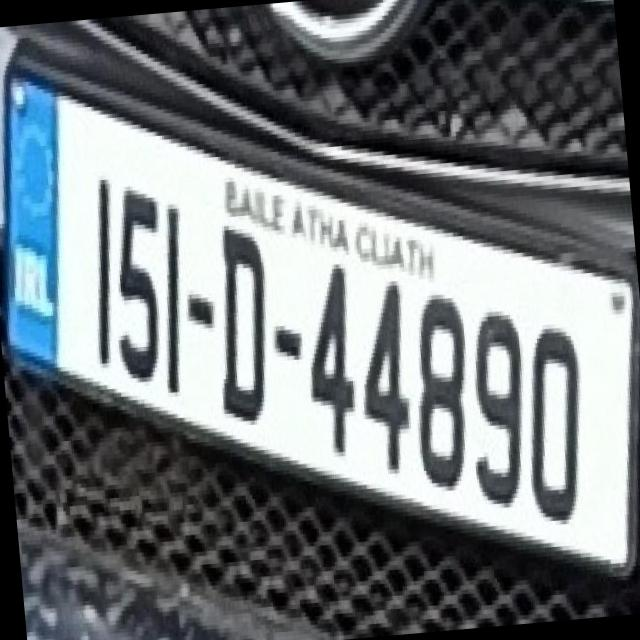0: (504, 304, 602, 528)
1: (53, 156, 134, 375), (136, 180, 215, 398)
4: (335, 253, 423, 472), (282, 241, 370, 459)
5: (91, 157, 181, 389)
8: (391, 270, 476, 490)
9: (452, 287, 540, 506)
D: (193, 200, 288, 432)
